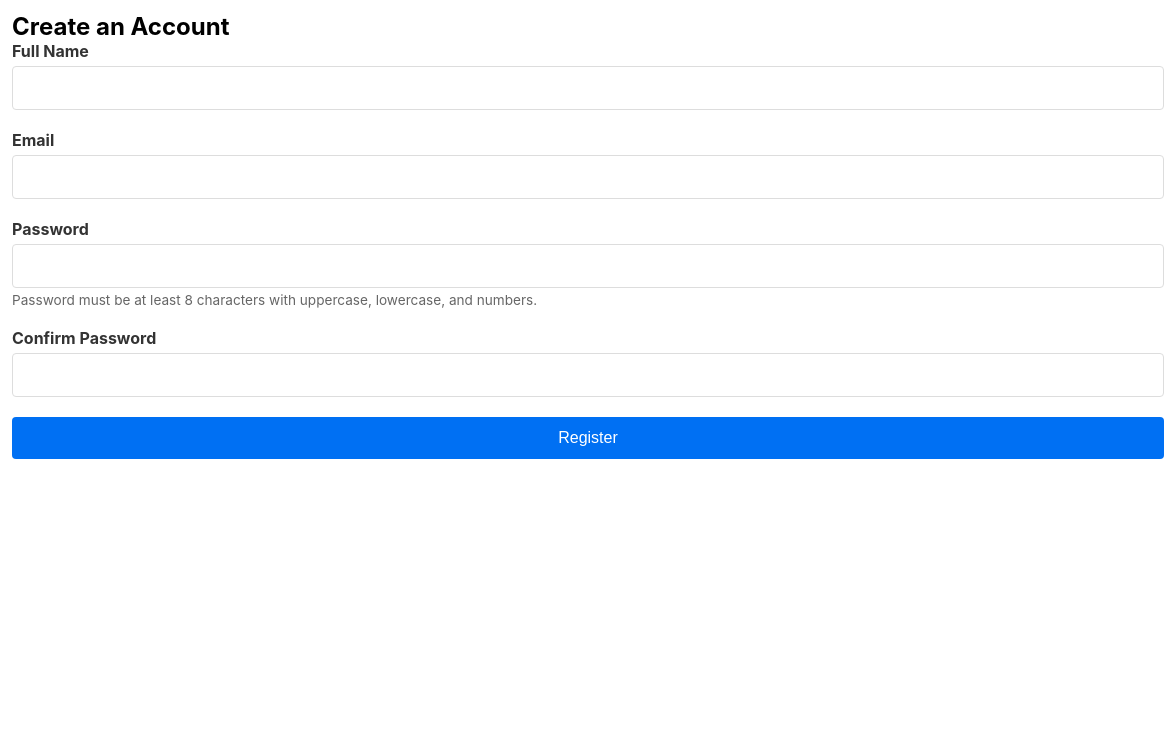
Test: RegisterForm Component › shows error when password does not meet complexity requirements
The image size is (1176, 732).
// Fill the form with weak password
Type "John Doe" into the field labelled "Full Name" at (588, 88), box [12,66,1164,110]
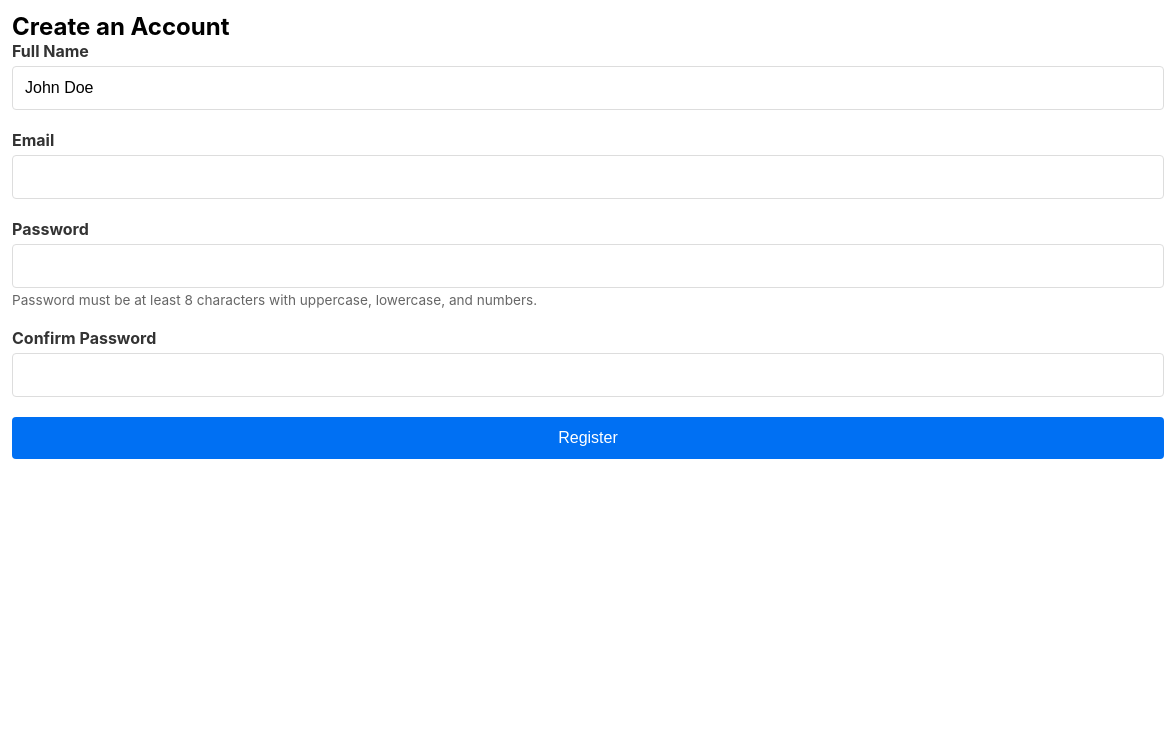
Type "john@example.com" into the field labelled "Email" at (588, 177), box [12,155,1164,199]
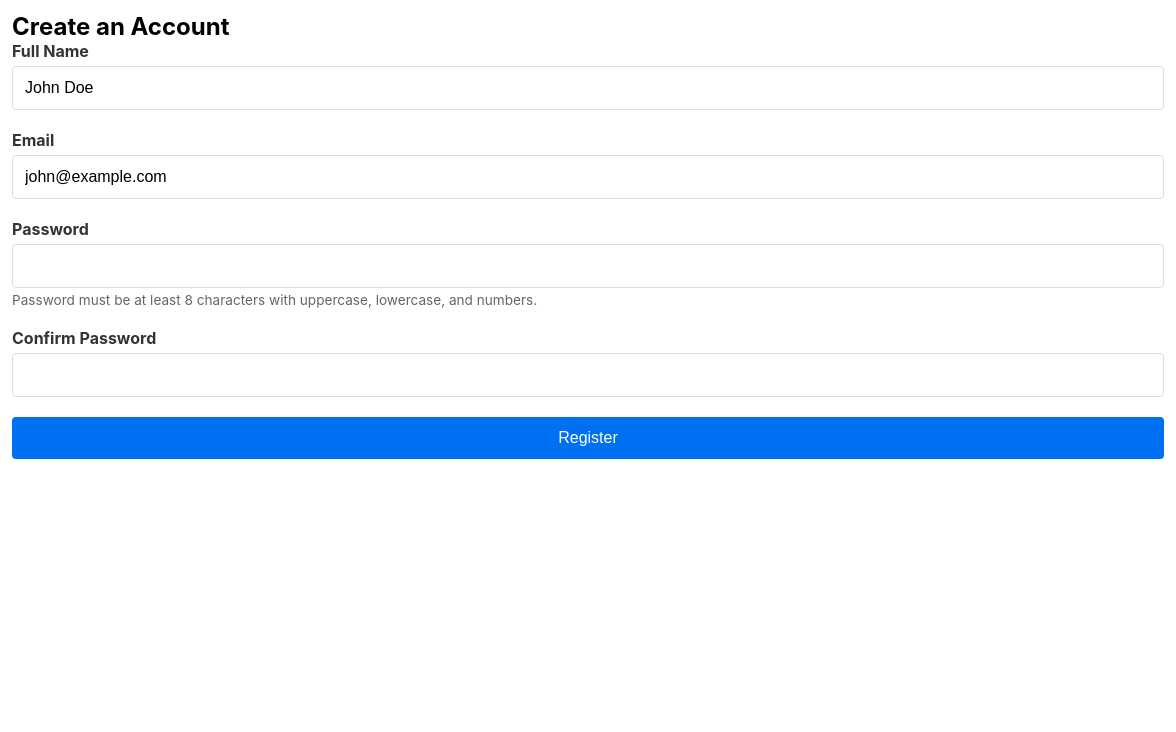
Type "password" into the password field labelled "Password" at (588, 266), box [12,244,1164,288]
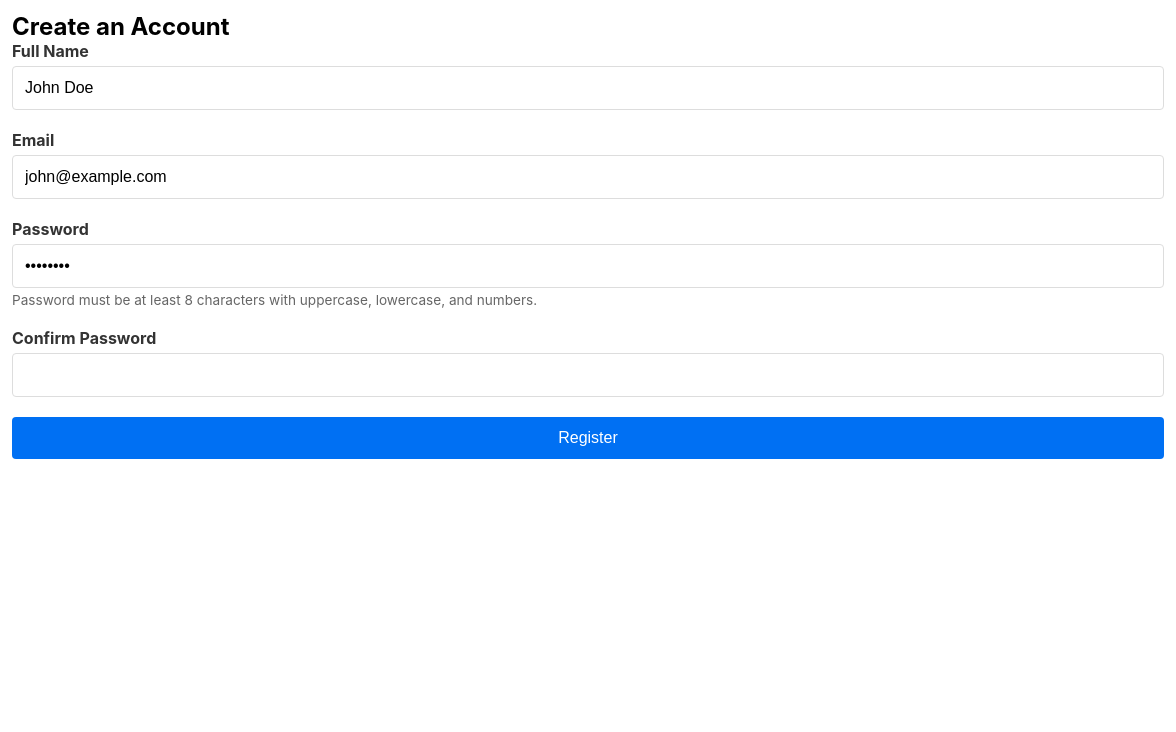
Type "password" into the password field labelled "Confirm Password" at (588, 375), box [12,353,1164,397]
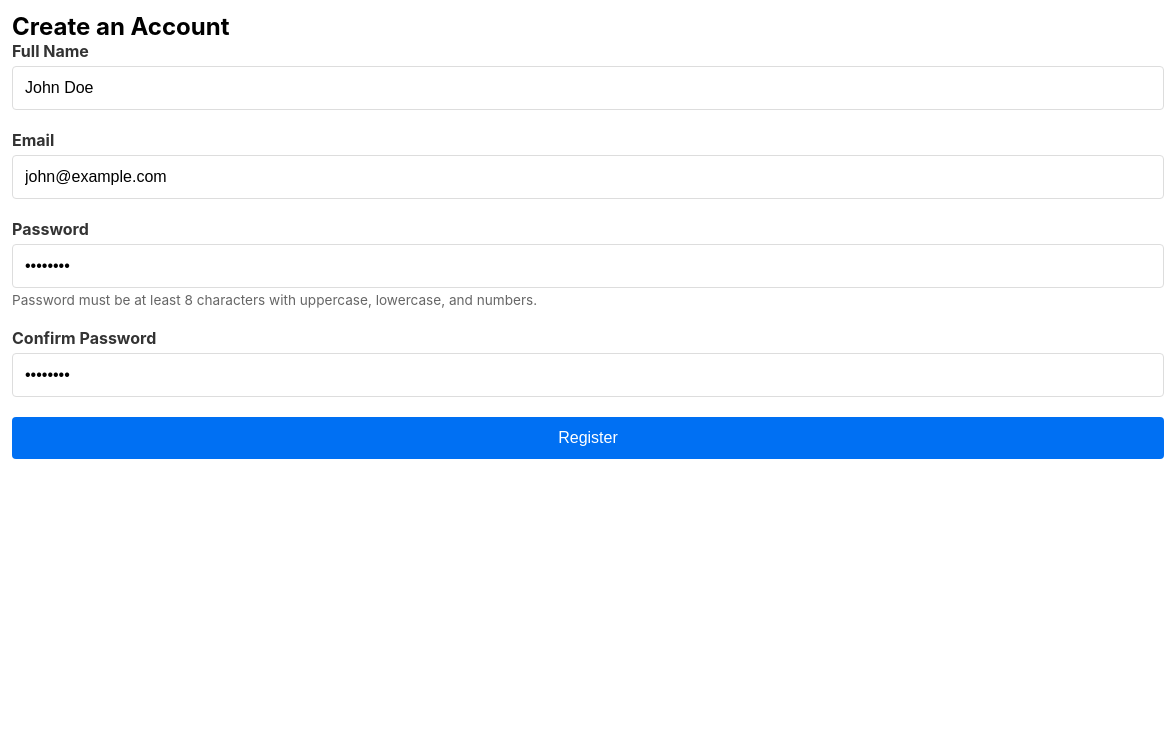
// Submit the form
Click the button "Register" at (588, 438), box [12,417,1164,459]
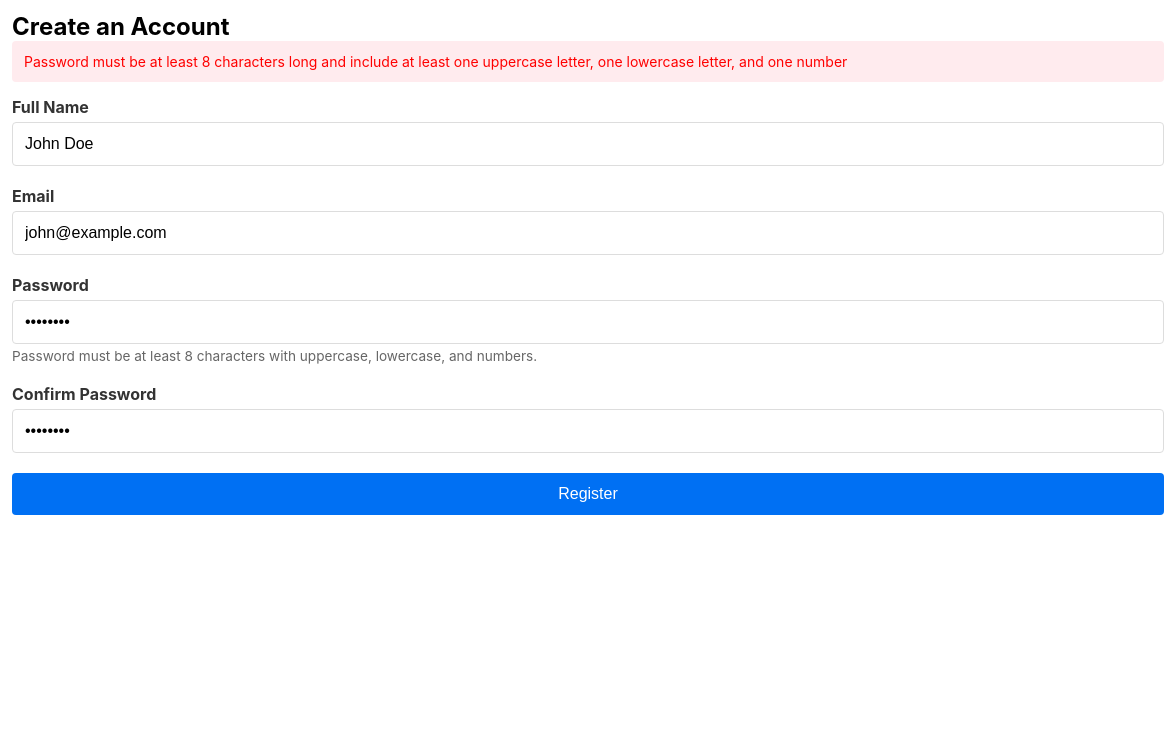
Result: the text "Password must be at least 8 characters long and include at least one uppercase letter, one lowercase letter, and one num" is shown at [24,53,847,70]
